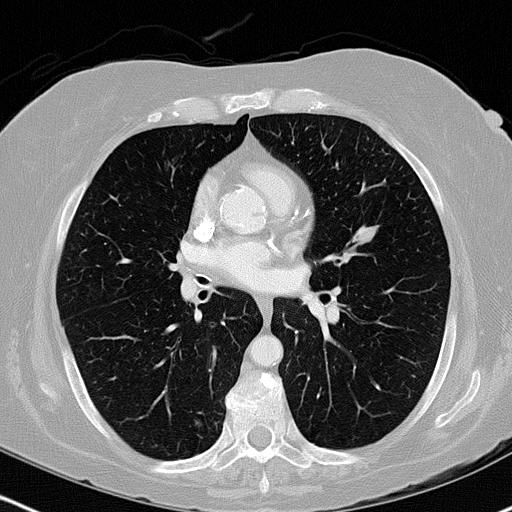nodule: (356, 224, 377, 245)
